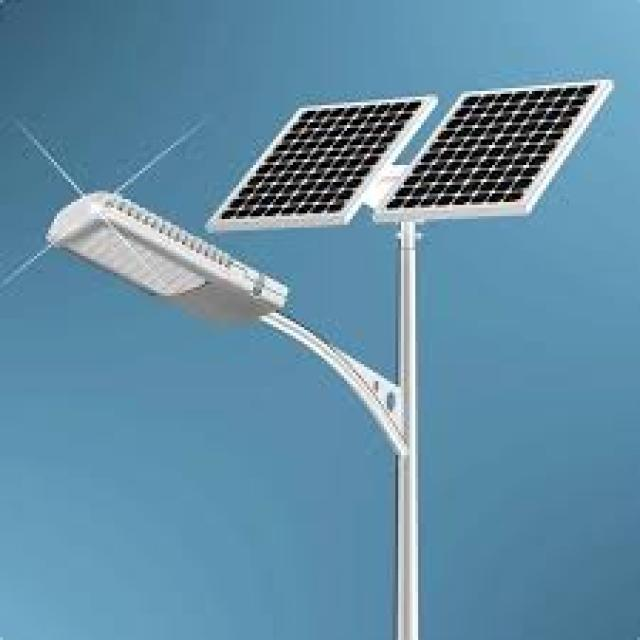Street Light: (43, 193, 421, 640)
